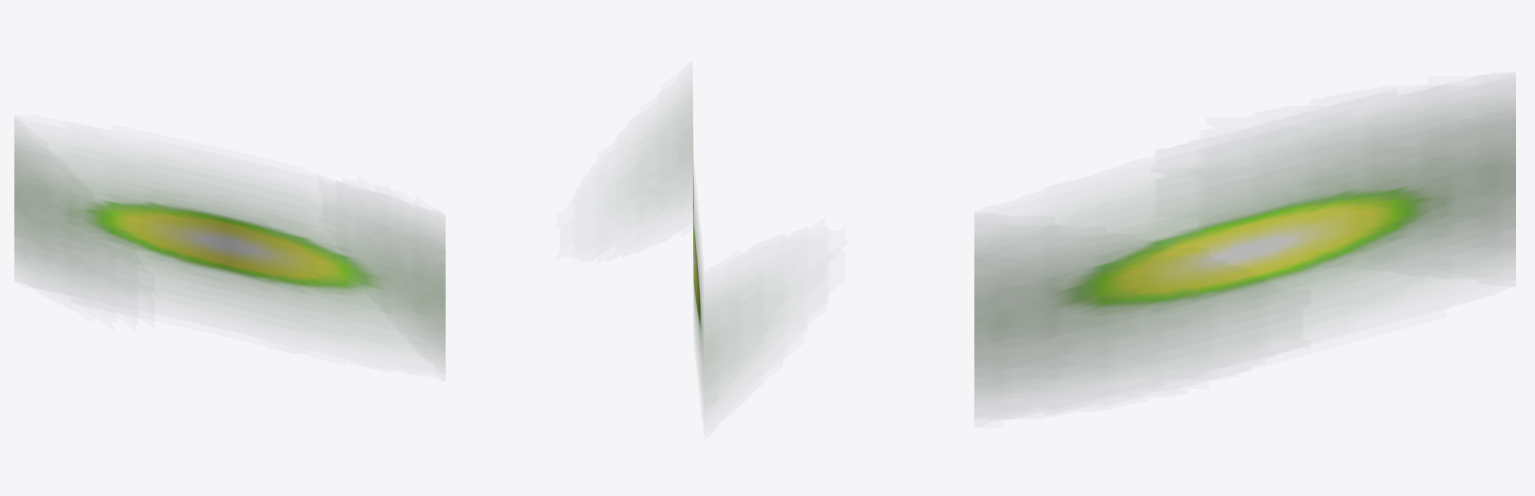
The model's file is 0203_ZZI_M.glb.
The picture shows the model from 3 angles, left to right: view 1: azimuth 30°, elevation 25°; view 2: azimuth 150°, elevation 25°; view 3: azimuth 270°, elevation 25°; orthographic projection. The views are drawn at different scales.
Bounding box in the file's own units: 1.3 × 1.39 × 2.2.
1 material, 1 textured.
